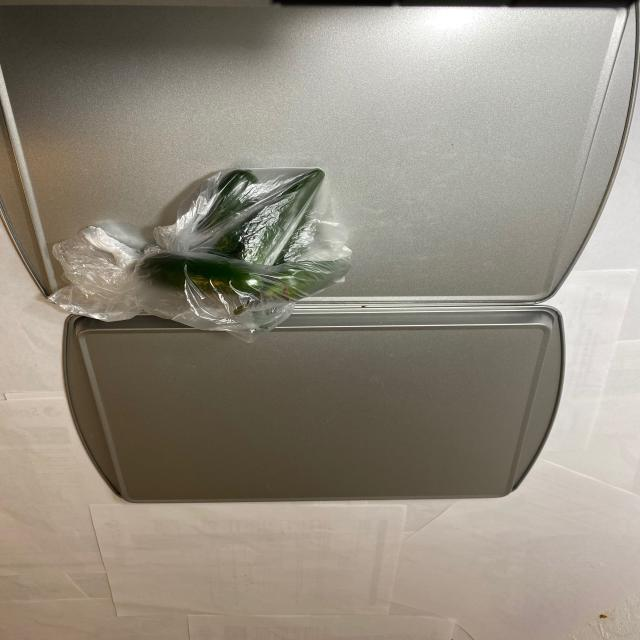chilli: (126, 157, 353, 328)
